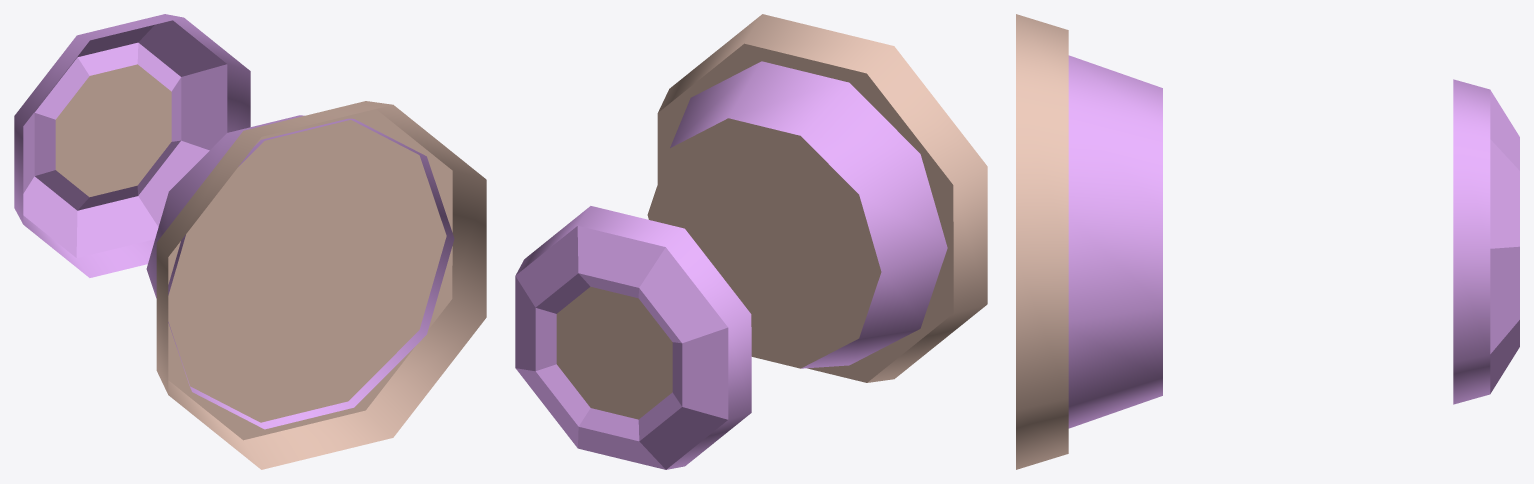
3 renders of one model, left to right at view 1: azimuth 30°, elevation 25°; view 2: azimuth 150°, elevation 25°; view 3: azimuth 270°, elevation 25°, orthographic. The views are drawn at different scales.
Visible parts, largest first — view 1: Object88; view 2: Object88; view 3: Object88.
Part boxes in pixels (x1,y1,x2,y2): Object88: (14,14,486,469); Object88: (515,14,987,469); Object88: (1016,14,1519,469).
Size of the model in its own units: 28487 by 28487 by 34031.
